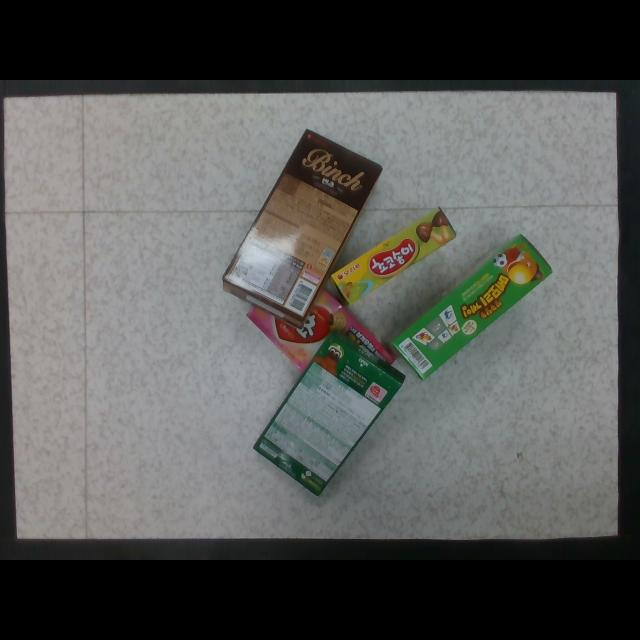box: (221, 128, 385, 329), (254, 327, 406, 499), (381, 235, 555, 379), (249, 271, 398, 407), (328, 206, 458, 309)
